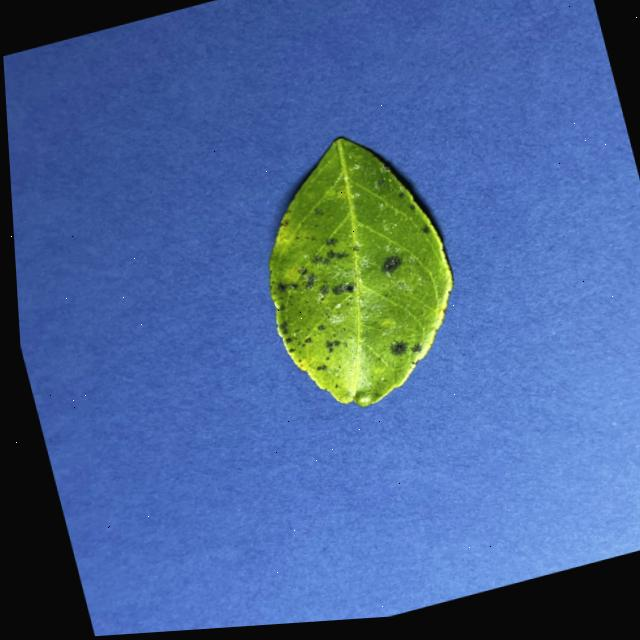sooty_mold: (269, 138, 451, 406)
